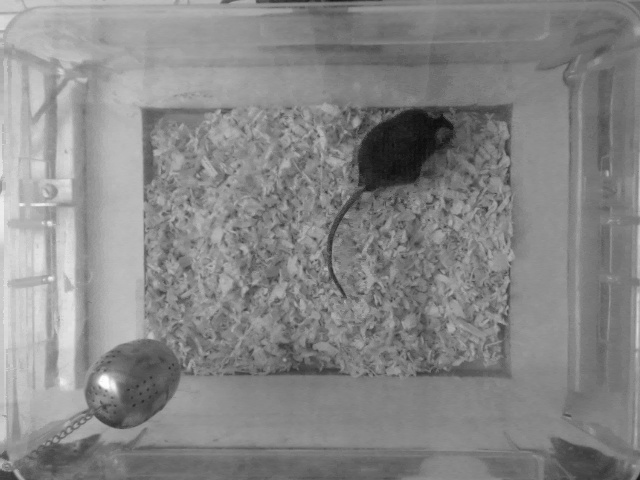mice: (320, 106, 457, 297)
